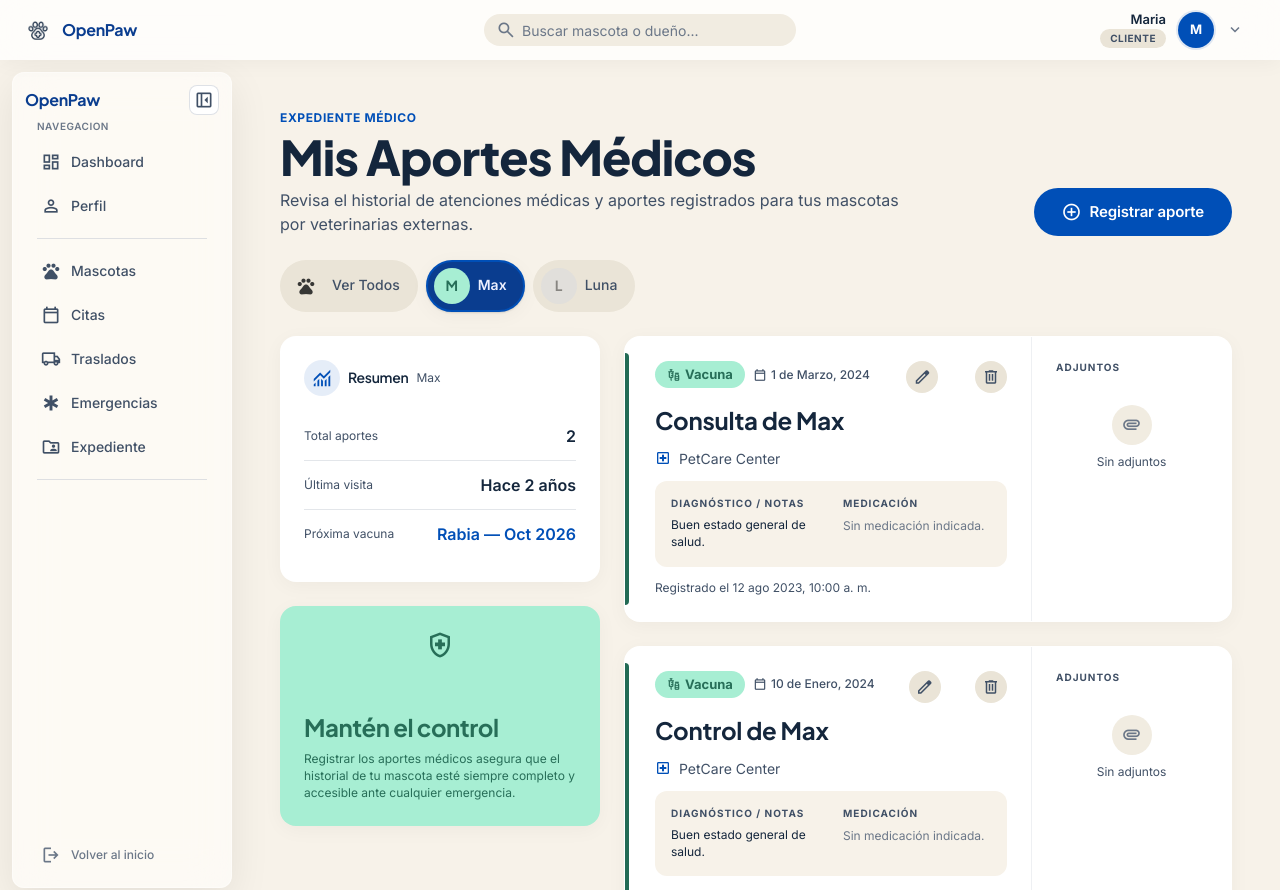
it: AportesPage - rediseño Sprint 2 (T36) › "Ver Todos": mezcla aportes de todas las mascotas ordenados por fecha y muestra chip de mascota
Expected: the heading "Consulta de Max" is shown, [655,405,844,435]
Click the radio button labelled "Ver Todos". click: [349, 286]
box: [280,260,418,312]
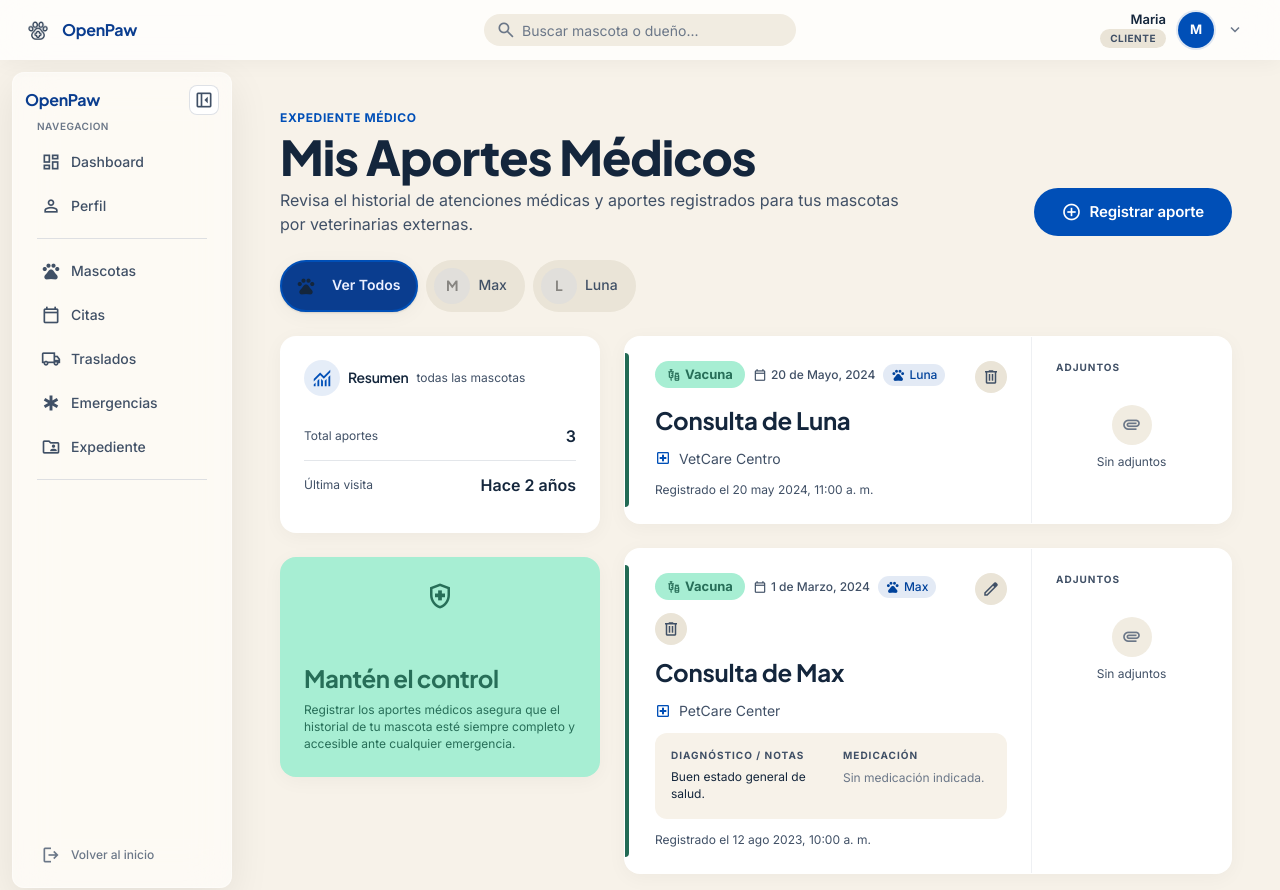
Expected: the element named "Vacuna: Consulta de Luna" shows "Consulta de Luna", [655,405,851,435]
Expected: the text "Luna" is shown, [883,364,946,386]
Expected: the text "Max" is shown, [878,576,936,598]
